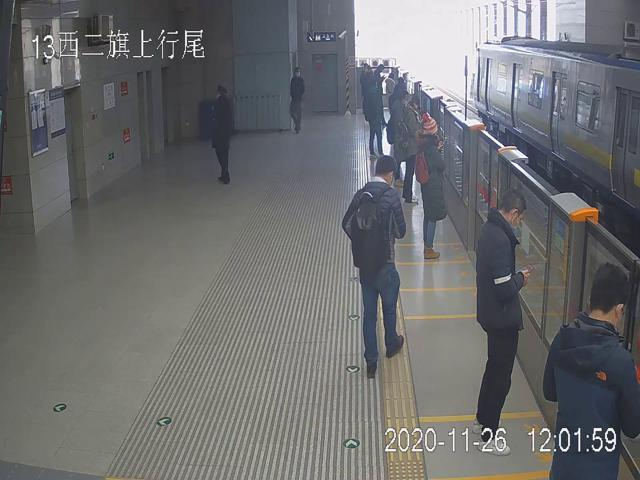person: (542, 262, 640, 480), (474, 186, 529, 455), (343, 154, 405, 378), (415, 113, 447, 259), (211, 83, 233, 187), (401, 96, 420, 204), (288, 65, 305, 134)
